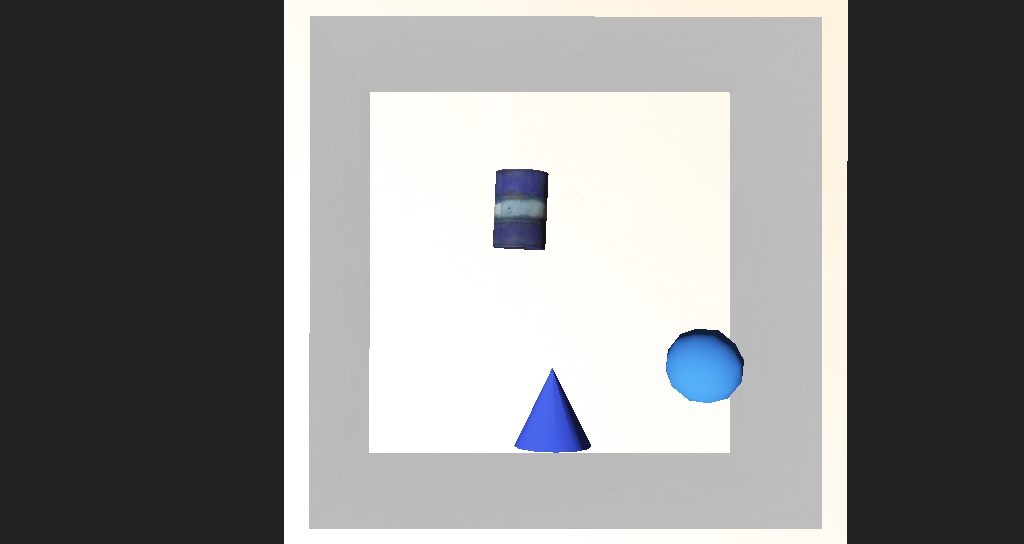cone: (451, 205, 505, 253)
cylinder: (482, 320, 542, 377)
sphere: (603, 303, 664, 346)
